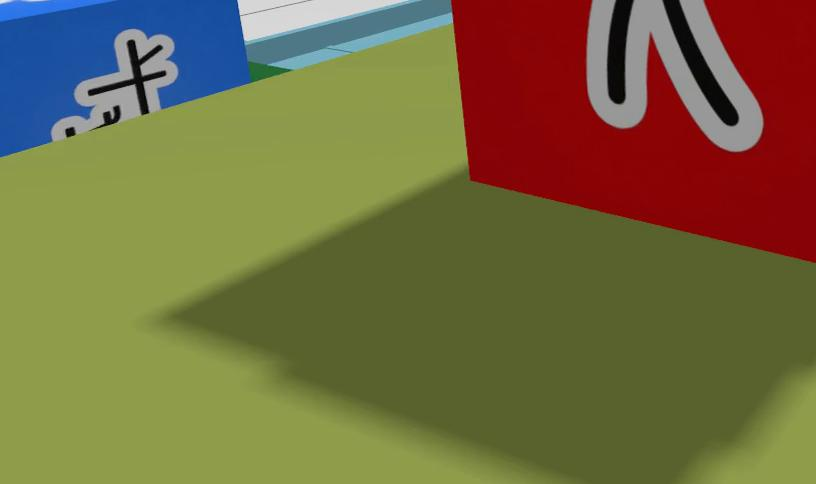KFS_FAKE: (445, 0, 816, 259), (587, 0, 761, 151)
KFS_REAL: (0, 0, 253, 161), (51, 29, 180, 141), (21, 0, 57, 2), (0, 0, 13, 4), (91, 73, 120, 73)
